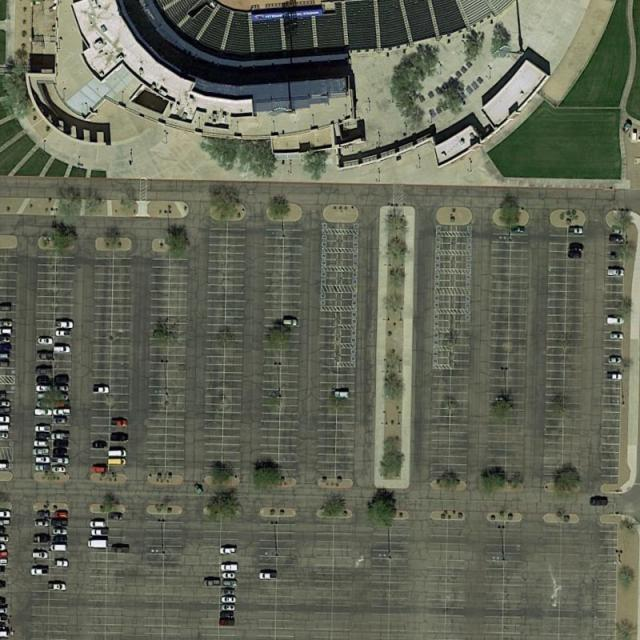vehicle: (604, 314, 624, 326), (53, 408, 72, 418), (90, 529, 111, 538), (203, 579, 223, 588), (606, 267, 624, 277), (86, 541, 108, 549), (34, 424, 51, 434), (106, 458, 127, 466), (106, 450, 127, 458), (52, 432, 70, 441), (50, 544, 68, 553), (110, 418, 130, 426), (590, 498, 609, 506), (112, 546, 131, 554), (259, 572, 278, 580), (90, 466, 109, 474), (47, 583, 68, 590), (51, 466, 69, 474), (607, 372, 624, 380), (52, 518, 69, 526), (610, 234, 625, 243), (34, 409, 53, 416), (34, 386, 53, 393), (219, 547, 238, 554), (110, 435, 129, 442), (55, 322, 74, 329), (31, 552, 50, 559), (334, 390, 350, 398), (54, 440, 70, 448), (36, 392, 52, 400), (282, 318, 298, 326), (34, 535, 50, 543), (34, 455, 52, 462), (53, 346, 71, 353), (54, 386, 69, 394), (220, 565, 240, 571), (35, 434, 52, 441), (37, 353, 54, 360), (34, 448, 51, 455), (53, 449, 70, 456), (223, 580, 240, 587), (220, 596, 237, 603), (91, 388, 110, 394), (31, 569, 50, 575), (38, 338, 54, 345), (55, 330, 73, 336), (607, 357, 622, 364), (53, 417, 68, 424), (55, 394, 70, 401), (222, 573, 237, 580), (38, 511, 51, 519), (36, 378, 53, 384), (90, 521, 107, 527), (220, 605, 237, 611), (219, 620, 236, 626), (53, 457, 70, 463), (34, 466, 51, 472), (53, 537, 70, 543), (52, 529, 69, 535), (110, 514, 124, 521), (511, 227, 527, 233), (54, 561, 70, 567), (1, 343, 13, 351), (34, 440, 50, 446), (91, 442, 107, 448), (1, 510, 13, 518), (54, 512, 70, 518), (569, 244, 584, 250), (567, 252, 582, 258), (1, 423, 11, 432), (1, 415, 11, 424), (54, 378, 69, 384), (37, 369, 52, 375), (222, 590, 237, 596), (34, 520, 49, 526), (36, 402, 53, 407), (570, 227, 584, 233), (1, 518, 11, 526), (1, 306, 14, 312), (1, 393, 12, 400), (1, 361, 12, 368), (1, 328, 12, 335), (1, 462, 10, 470), (222, 613, 236, 618), (496, 395, 506, 402), (611, 334, 624, 339), (1, 607, 9, 615), (1, 550, 9, 558), (1, 432, 10, 439), (1, 631, 10, 638), (1, 535, 10, 542), (1, 408, 11, 414), (1, 402, 11, 408), (1, 322, 13, 327), (1, 337, 11, 342), (1, 559, 8, 566), (1, 354, 10, 359), (1, 617, 9, 622), (1, 598, 7, 604), (1, 528, 7, 534), (1, 566, 6, 573), (1, 582, 7, 587), (1, 544, 6, 550)
